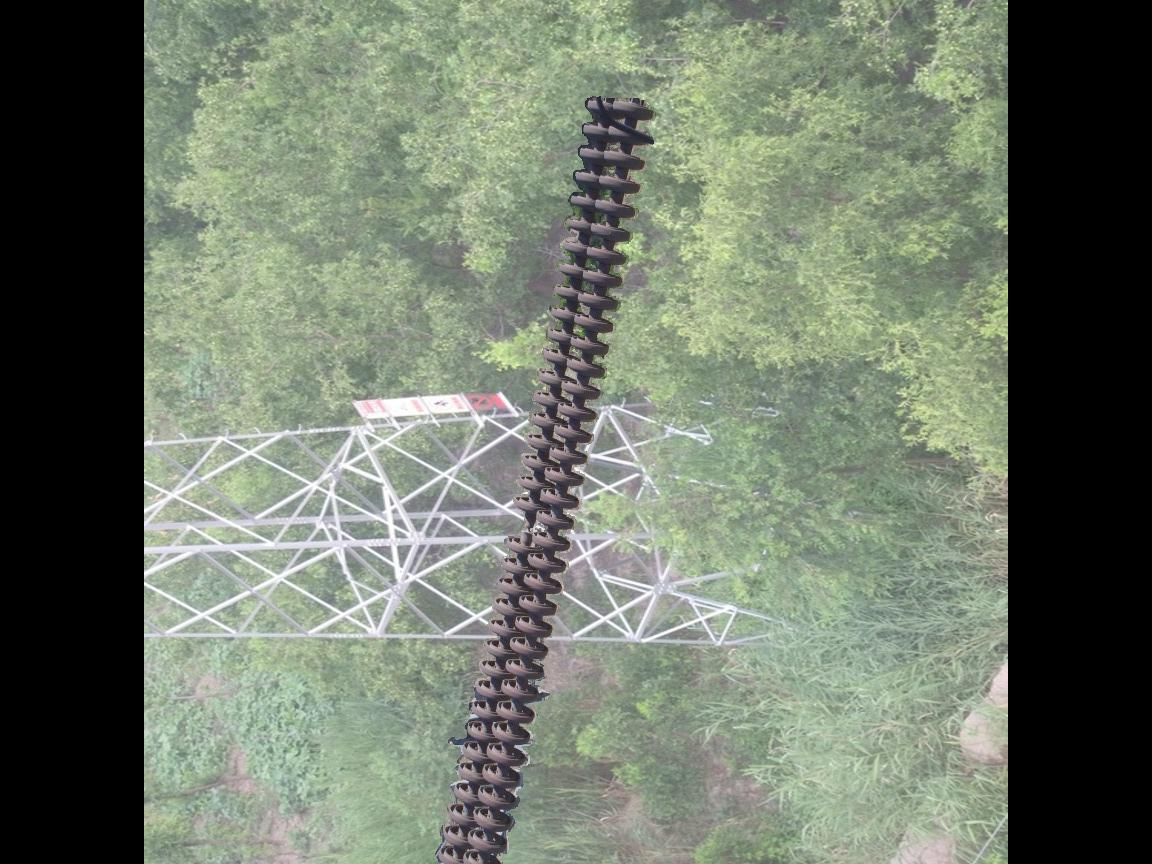insulator: (431, 91, 658, 864)
insulator_stringdrop: (497, 492, 550, 558)
